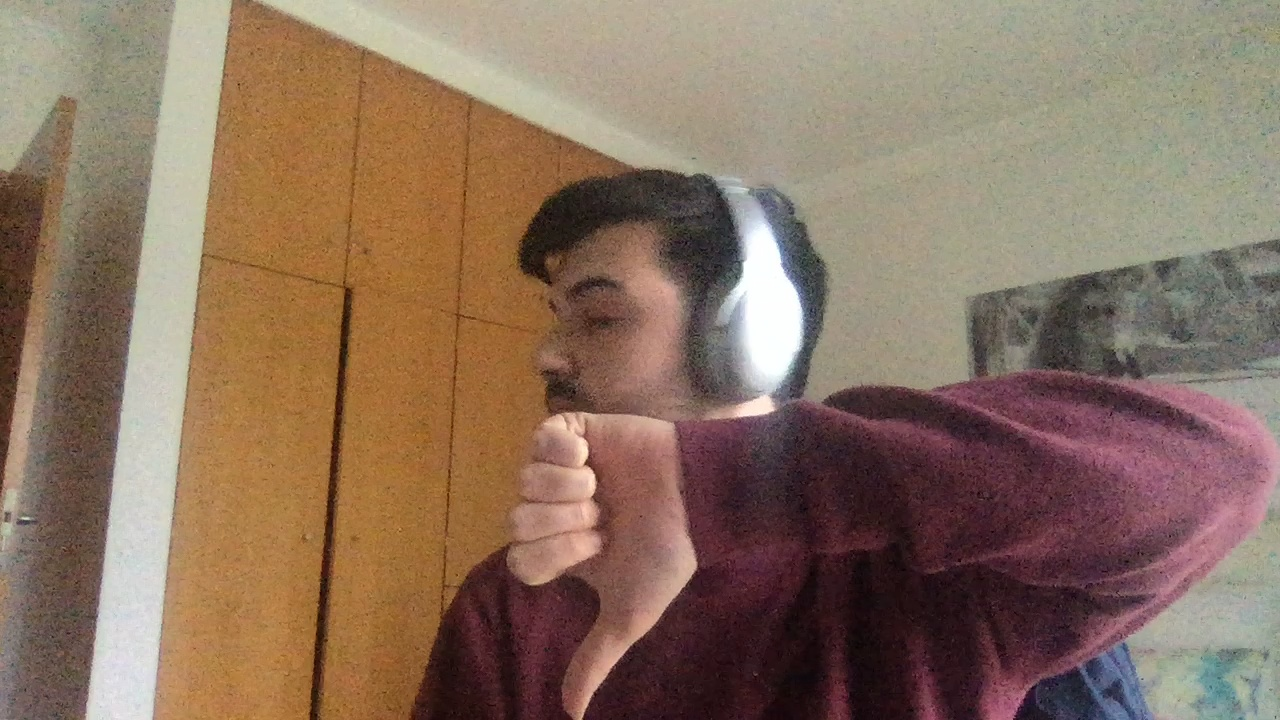ThumbsDown: (507, 409, 691, 720)
